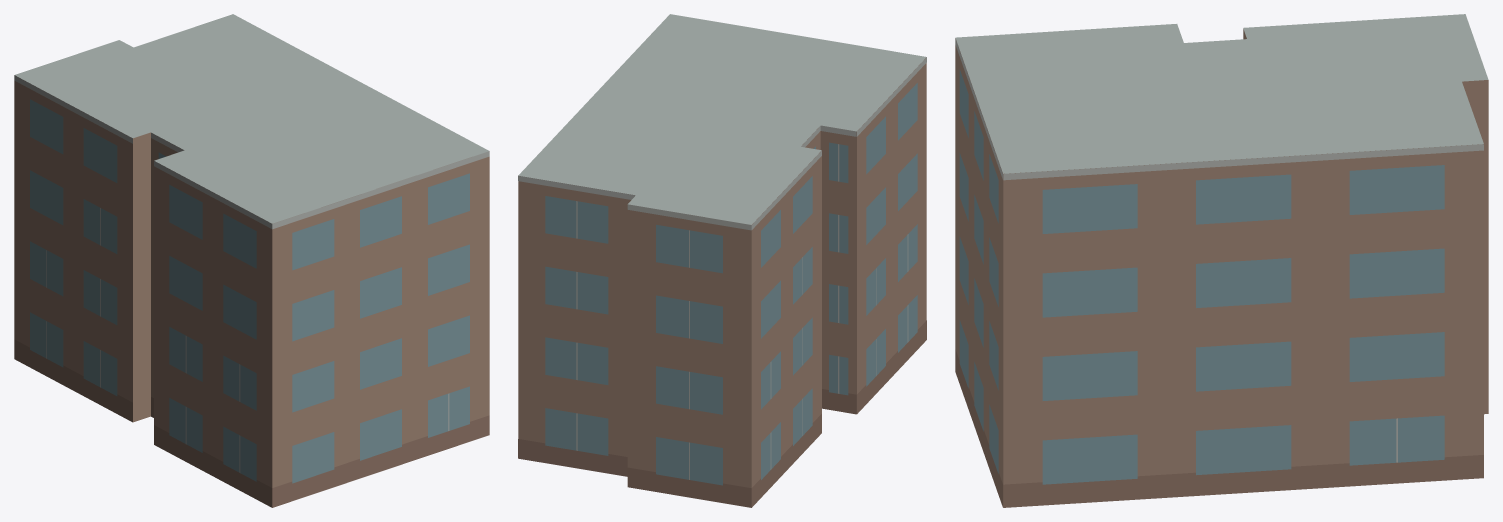
Rendered from survey-upis-32778003.glb.
3 views of the same model, side by side, from view 1: azimuth 30°, elevation 25°; view 2: azimuth 150°, elevation 25°; view 3: azimuth 270°, elevation 25° (orthographic). The views are drawn at different scales.
Parts seen in each view (by area): view 1: survey-upis-32778003.tmp; view 2: survey-upis-32778003.tmp; view 3: survey-upis-32778003.tmp.
Part boxes in pixels (box(x1,y1,x2,y2)): survey-upis-32778003.tmp: box(14, 14, 489, 507); survey-upis-32778003.tmp: box(518, 14, 926, 507); survey-upis-32778003.tmp: box(955, 14, 1488, 507).
Size of the model in its own units: 12.94 by 12.6 by 18.24.
